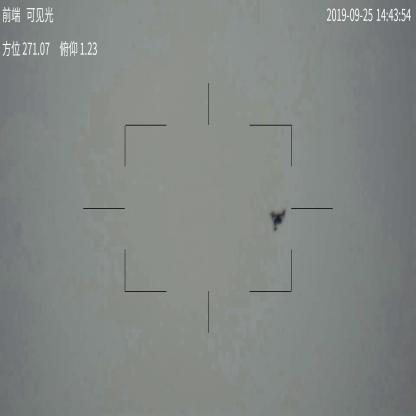uav: (268, 207, 288, 231)
